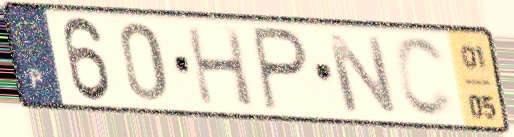0: (117, 19, 173, 107)
6: (59, 14, 113, 105)
C: (392, 34, 458, 121)
H: (182, 23, 257, 109)
N: (322, 31, 401, 117)
P: (249, 22, 312, 115)
